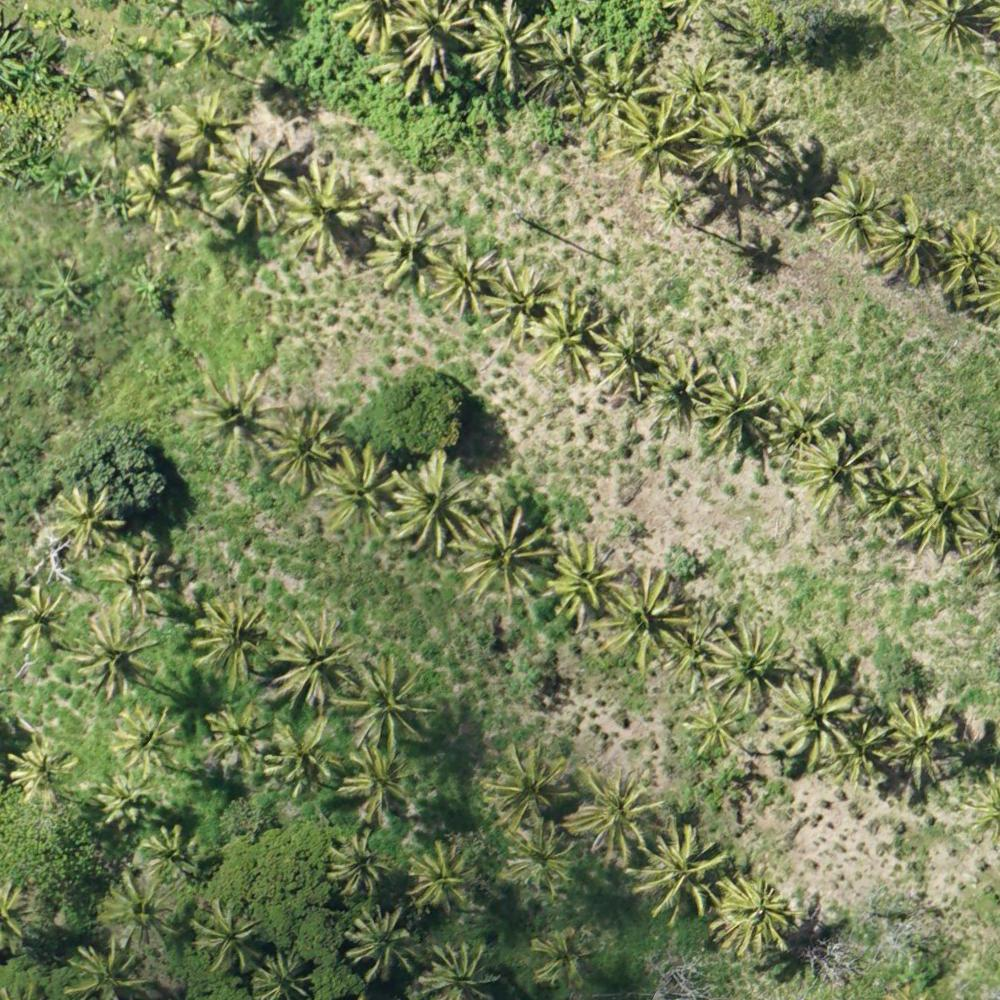Palm: (393, 451, 475, 559), (457, 510, 553, 601), (341, 657, 435, 747), (767, 673, 857, 766), (707, 611, 796, 705), (699, 96, 785, 192), (271, 608, 354, 707), (564, 772, 656, 860), (190, 371, 280, 460), (642, 826, 729, 916), (603, 579, 690, 668), (316, 443, 401, 534), (608, 97, 704, 177), (211, 131, 291, 224), (72, 608, 154, 698), (189, 595, 266, 690), (880, 697, 959, 789), (469, 1, 545, 92), (100, 868, 181, 950), (367, 210, 449, 291), (281, 174, 362, 256), (486, 744, 571, 821), (388, 1, 469, 80), (267, 407, 341, 493), (529, 25, 605, 108), (816, 169, 887, 255), (49, 488, 128, 565), (547, 539, 624, 618), (905, 468, 978, 551), (71, 86, 148, 164), (719, 878, 795, 957), (580, 56, 656, 133), (487, 261, 561, 340), (872, 199, 942, 282), (66, 936, 154, 1000), (345, 907, 419, 980), (97, 544, 171, 617), (108, 705, 183, 776), (593, 314, 664, 389), (165, 90, 236, 165), (269, 722, 343, 792), (192, 899, 261, 973), (940, 214, 999, 300), (119, 158, 191, 228), (536, 295, 601, 372), (419, 938, 501, 999), (805, 431, 869, 509), (339, 749, 412, 817), (5, 585, 72, 659), (8, 739, 79, 807), (433, 242, 498, 316), (649, 354, 714, 425), (411, 840, 474, 913), (707, 375, 773, 444), (506, 826, 576, 890), (203, 706, 268, 774), (139, 821, 208, 885), (524, 928, 593, 986), (326, 835, 385, 901), (682, 699, 741, 759), (93, 768, 155, 824), (863, 465, 918, 528), (252, 948, 315, 1000), (645, 182, 693, 231)
